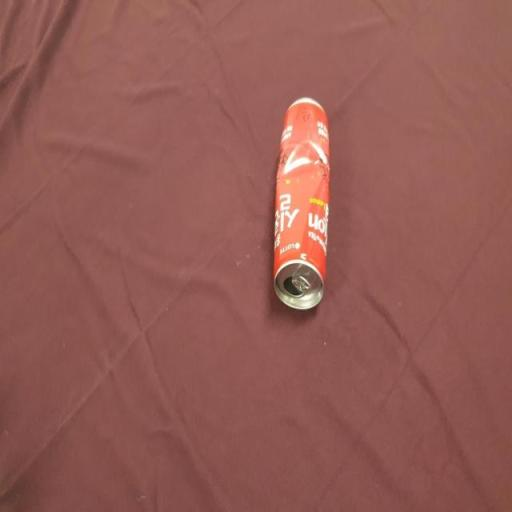metal: (262, 84, 336, 330)
